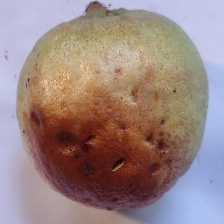guava: (26, 46, 208, 209)
